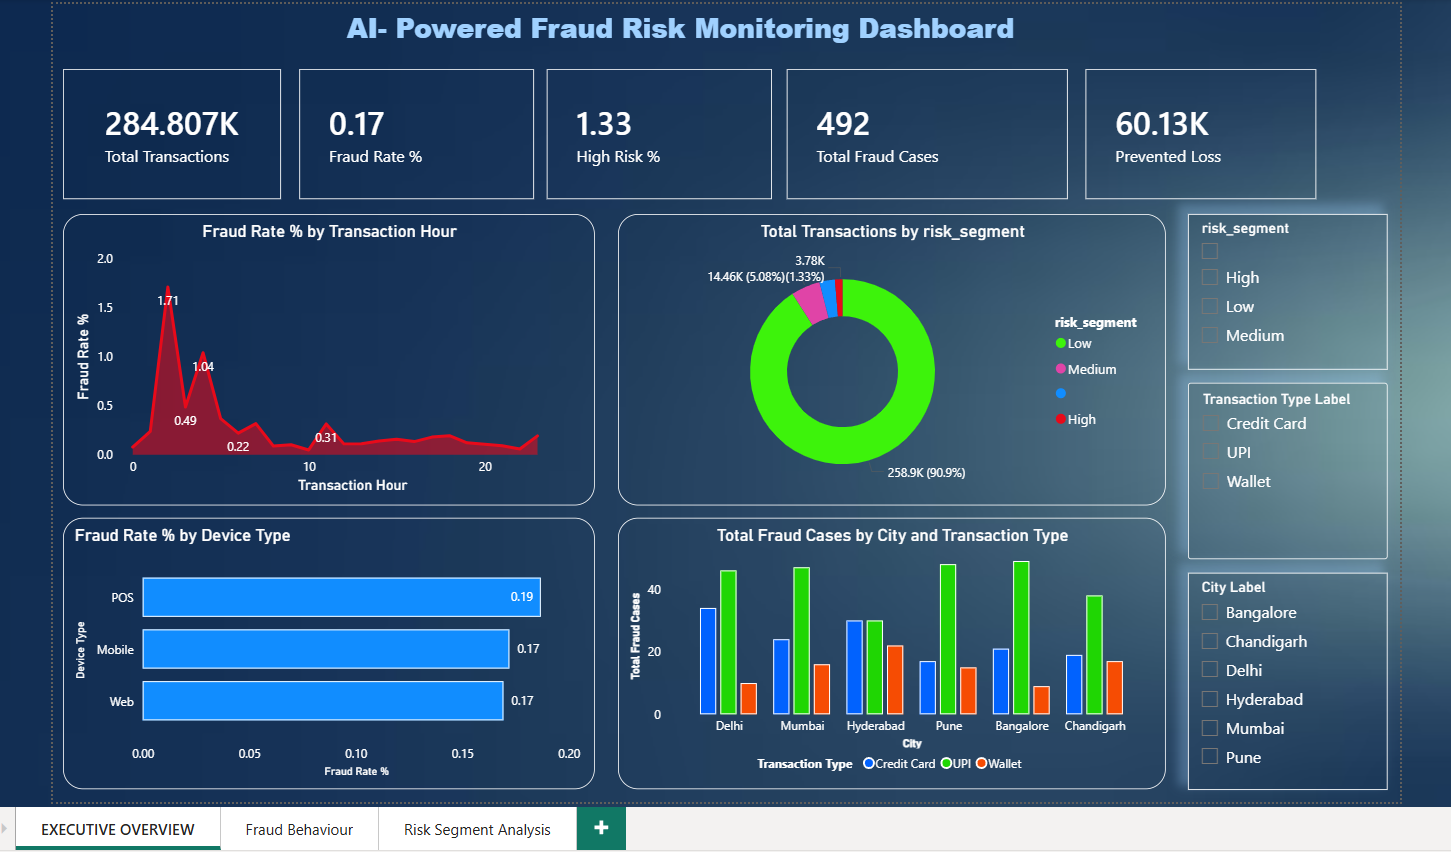

Layout of this report page (visuals, bound fields, positions):
{"tool":"powerbi","page":{"name":"EXECUTIVE OVERVIEW","canvas":[1350,800],"ordinal":0},"visuals":[{"type":"cardVisual","fields":{"Data":["transactions.Total Transactions"]},"box":[9.5,65.2,218.8,130.4],"z":0},{"type":"cardVisual","fields":{"Data":["transactions.High Risk %"]},"box":[494.6,65.2,225.5,130.4],"z":1000},{"type":"cardVisual","fields":{"Data":["transactions.Prevented Loss"]},"box":[1034,65.2,231,130.4],"z":2000},{"type":"cardVisual","fields":{"Data":["transactions.Fraud Rate %"]},"box":[247.3,65.2,235.1,130.4],"z":3000},{"type":"cardVisual","fields":{"Data":["transactions.Total Fraud Cases"]},"box":[735.1,65.2,281.3,130.4],"z":4000},{"type":"stackedAreaChart","title":"Fraud Rate % by Transaction Hour","fields":{"Category":["transactions.transaction_hour"],"Y":["transactions.Fraud Rate %"]},"box":[9.5,210.6,532.6,292.1],"z":5000},{"type":"donutChart","fields":{"Category":["transactions.risk_segment"],"Y":["transactions.Total Transactions"]},"box":[566.6,210.6,548.9,292.1],"z":6000},{"type":"barChart","title":"Fraud Rate % by Device Type ","fields":{"Category":["transactions.Device Type Label"],"Y":["transactions.Fraud Rate %"]},"box":[9.5,514.9,532.6,271.7],"z":7000},{"type":"lineClusteredColumnComboChart","title":"Total Fraud Cases by City  and Transaction Type ","fields":{"Category":["transactions.City Label"],"Y":["transactions.Total Fraud Cases"],"Series":["transactions.Transaction Type Label"]},"box":[566.6,514.9,548.9,271.7],"z":8000},{"type":"slicer","fields":{"Values":["transactions.City Label"]},"box":[1137.2,569.3,199.7,217.4],"z":9000},{"type":"slicer","fields":{"Values":["transactions.risk_segment"]},"box":[1137.2,210.6,199.7,156.3],"z":10000},{"type":"slicer","fields":{"Values":["transactions.Transaction Type Label"]},"box":[1137.2,379.1,199.7,176.6],"z":11000},{"type":"textbox","box":[210.6,0,792.1,59.8],"z":12000}]}

Visuals, with their boxes in screenshot pixels (x1, y1, x2, y2):
cardVisual - transactions.Total Transactions: x1=51 y1=73 x2=272 y2=205
cardVisual - transactions.High Risk %: x1=542 y1=73 x2=770 y2=205
cardVisual - transactions.Prevented Loss: x1=1087 y1=73 x2=1320 y2=205
cardVisual - transactions.Fraud Rate %: x1=292 y1=73 x2=529 y2=205
cardVisual - transactions.Total Fraud Cases: x1=785 y1=73 x2=1069 y2=205
"Fraud Rate % by Transaction Hour" stackedAreaChart: x1=51 y1=220 x2=590 y2=516
donutChart - transactions.risk_segment x transactions.Total Transactions: x1=614 y1=220 x2=1169 y2=516
"Fraud Rate % by Device Type " barChart: x1=51 y1=528 x2=590 y2=803
"Total Fraud Cases by City  and Transaction Type " lineClusteredColumnComboChart: x1=614 y1=528 x2=1169 y2=803
slicer - transactions.City Label: x1=1191 y1=583 x2=1393 y2=803
slicer - transactions.risk_segment: x1=1191 y1=220 x2=1393 y2=378
slicer - transactions.Transaction Type Label: x1=1191 y1=391 x2=1393 y2=569
textbox: x1=254 y1=8 x2=1055 y2=68
